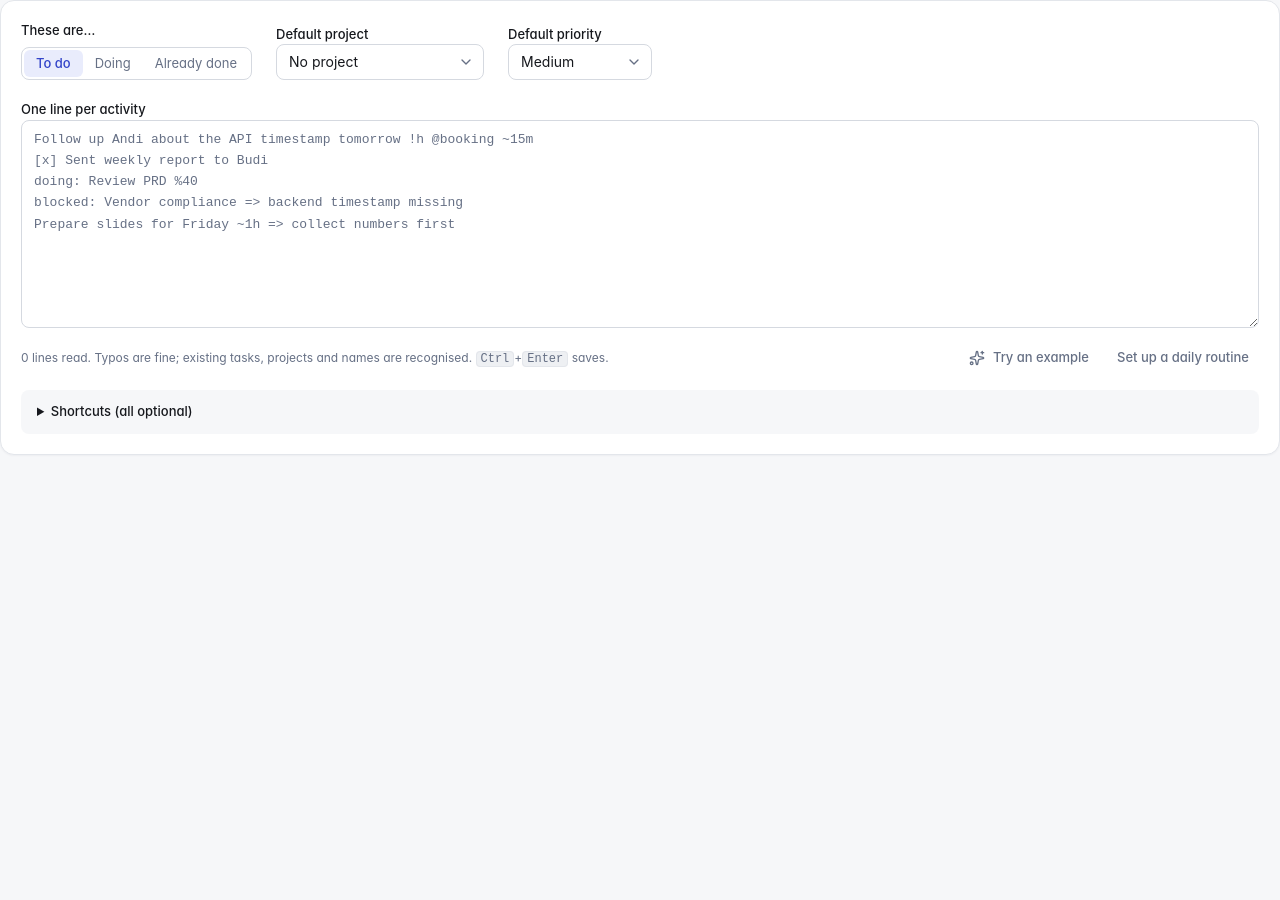
Scenario: Brain Dump: smart matching › a lookalike is pointed out but not assumed; choosing to update with nothing to change is explained
This screenshot has width=1280, height=900.
Click the text box labelled "One line per activity" at (640, 224), box [21,120,1259,328]
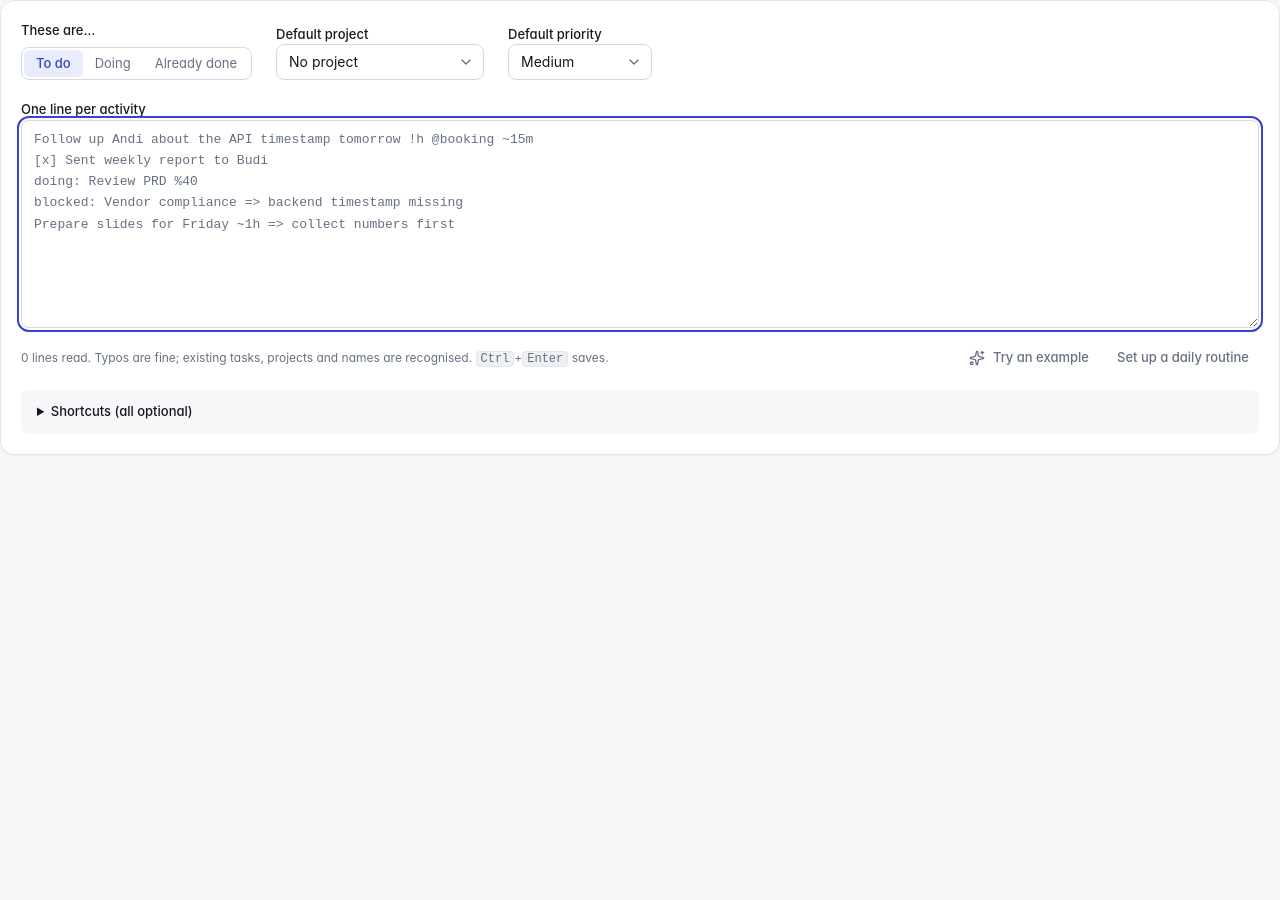
Type keys "Review PRD"
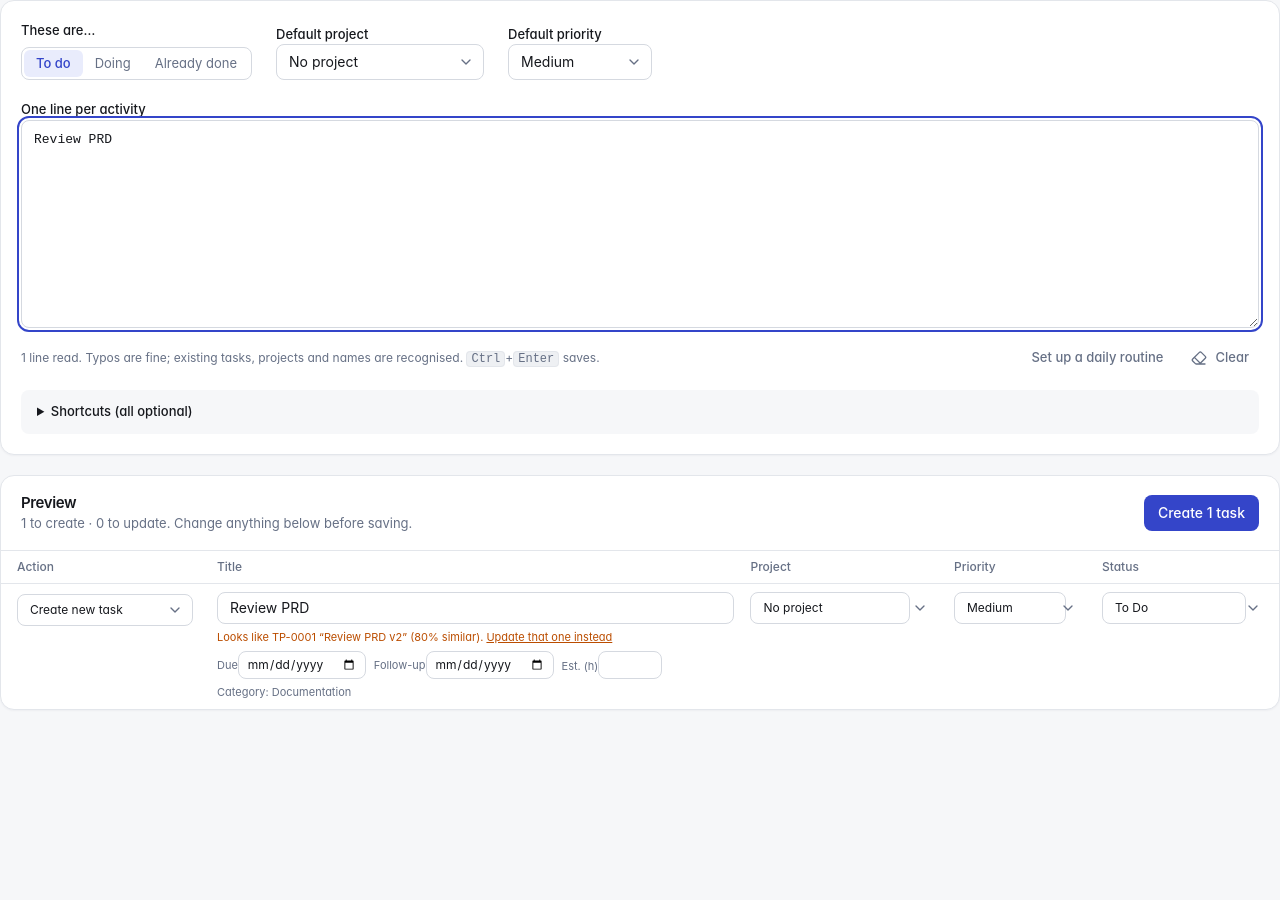
Expected: the dropdown named "Action for line 1" shows "Create new task", [17,594,193,626]
Expected: the text "Looks like TP-0001" is shown, [217,630,612,645]
Click the button "Update that one instead" at (549, 637), box [486,630,612,645]
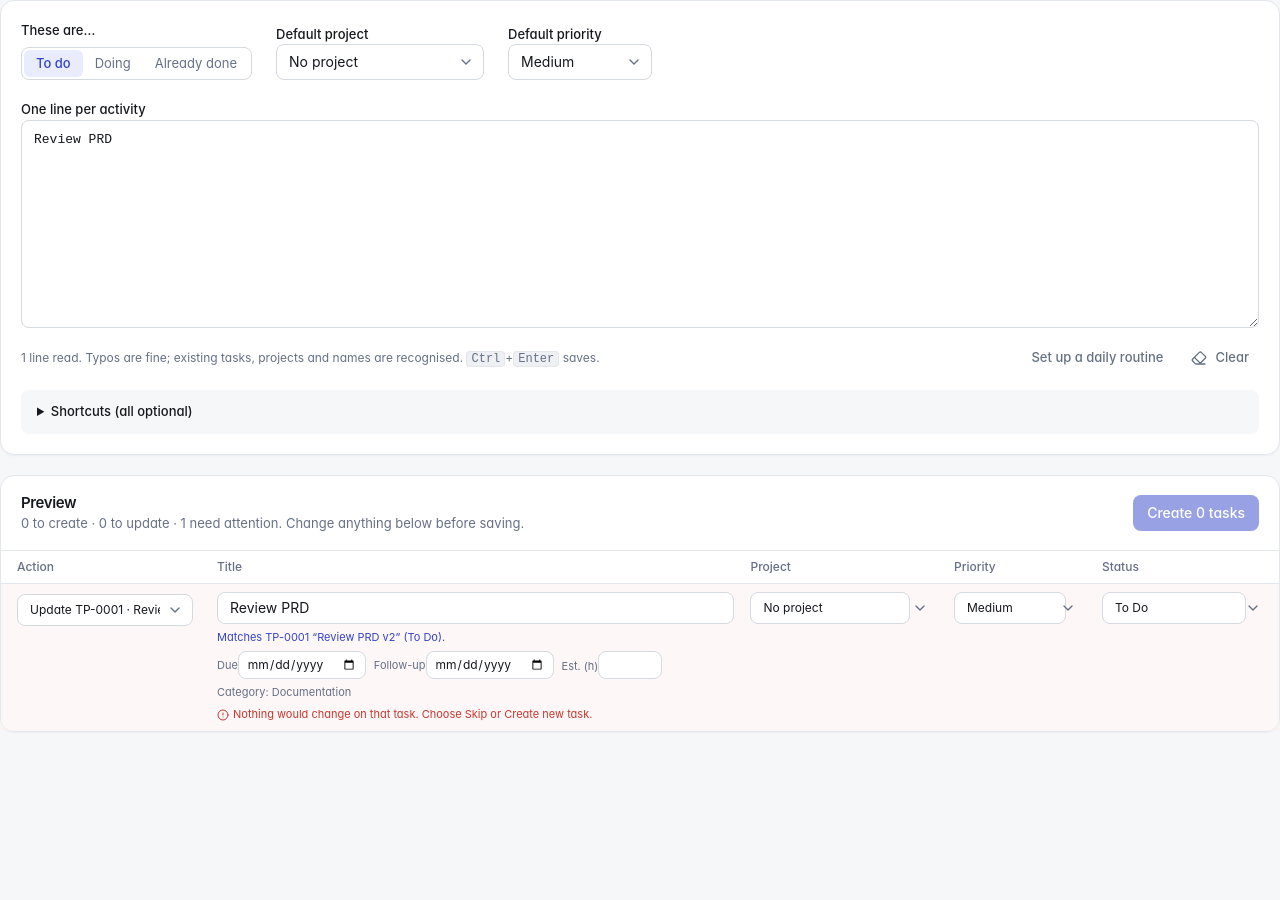
Expected: the dropdown named "Action for line 1" shows "Update TP-0001 · Review PRD v2", [17,594,193,626]
Expected: the message shows "Nothing would change", [233,707,592,721]
